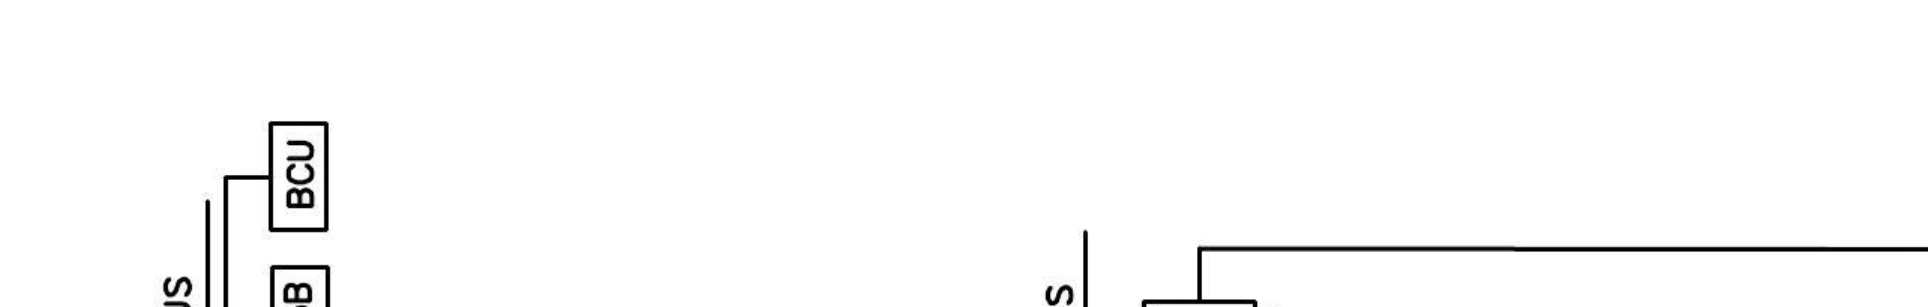BCU: (268, 119, 330, 233)
